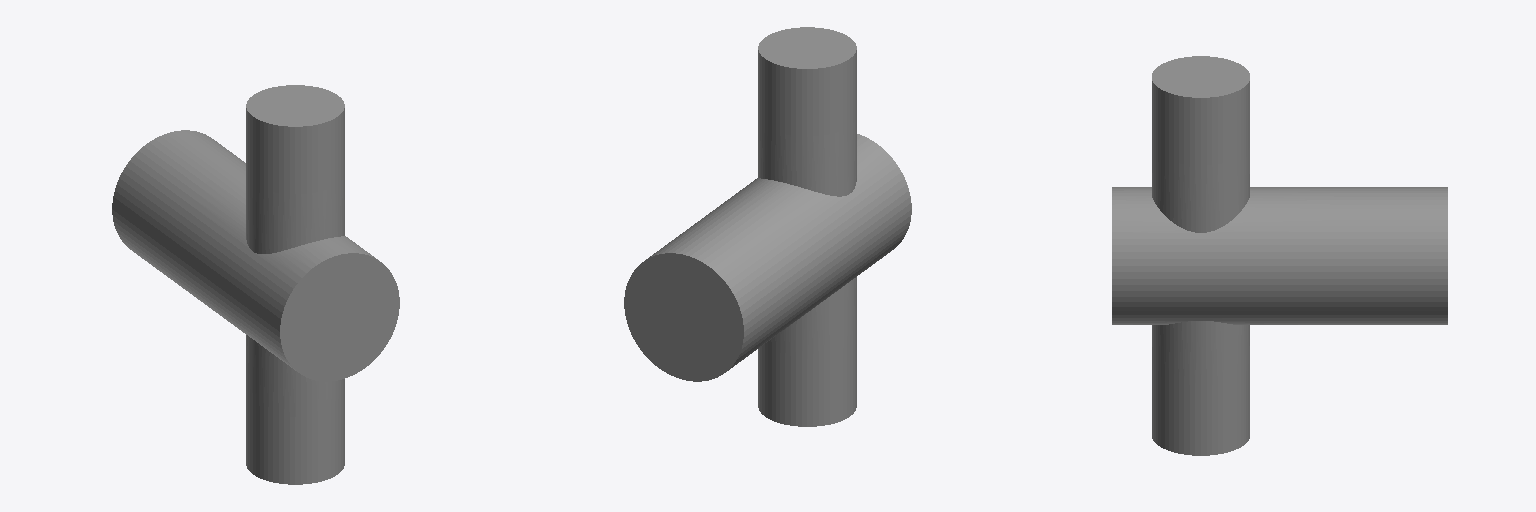
Rendered from Soporte.obj.
The picture shows the model from 3 angles: view 1: azimuth 30°, elevation 25°; view 2: azimuth 150°, elevation 25°; view 3: azimuth 270°, elevation 25°; orthographic projection.
Parts seen in each view (by area): view 1: Soporte; view 2: Soporte; view 3: Soporte.
Part boxes in pixels (x1,y1,x2,y2): Soporte: (112,85,399,484); Soporte: (624,27,911,426); Soporte: (1112,56,1447,455).
Size of the model in its own units: 70 by 200 by 170.